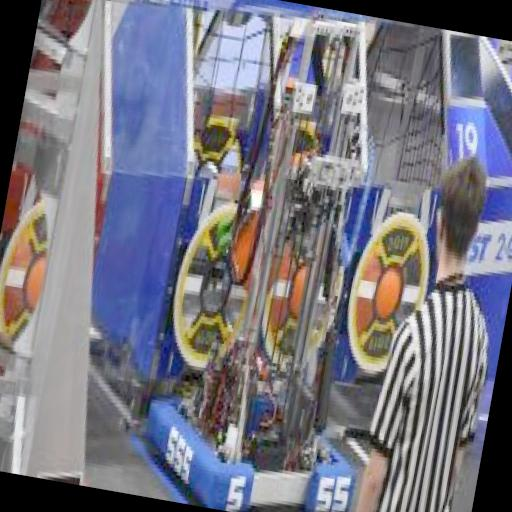robot: (133, 3, 434, 512)
